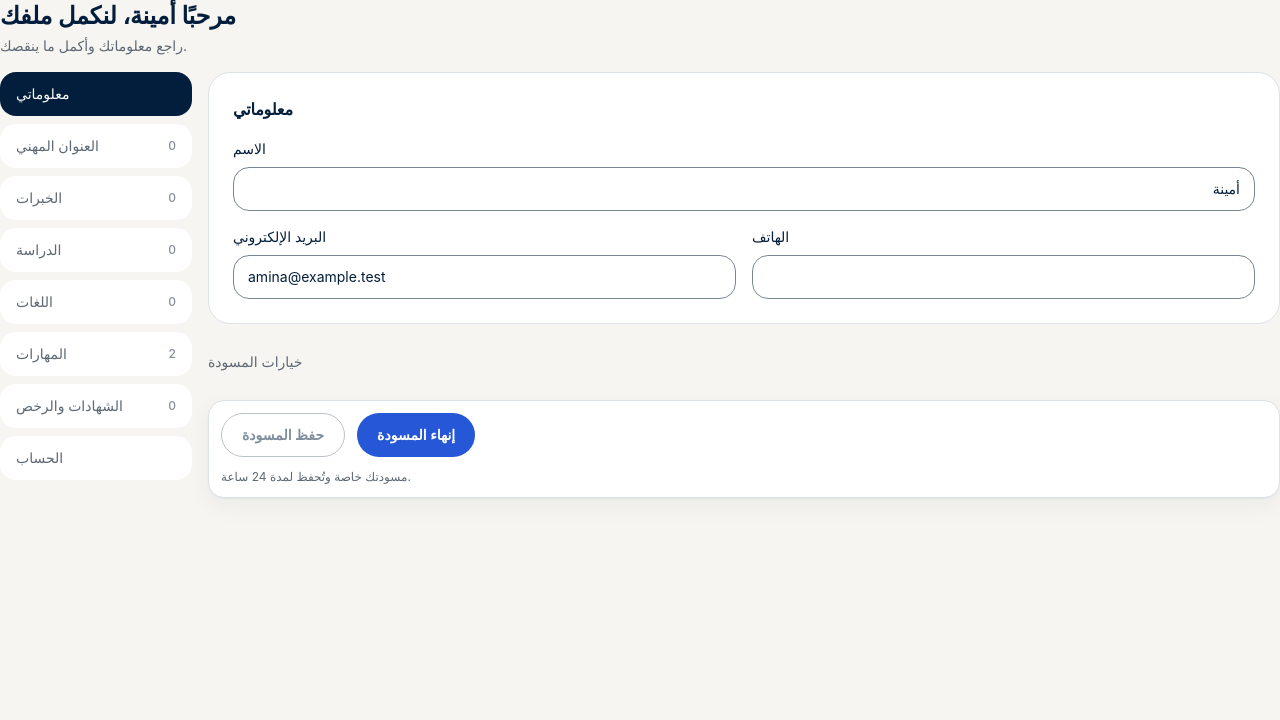
Test: guest professional draft › shows the dictionary label for extracted skills that only contain an ID
Expected: the field labelled "الاسم" is shown, [233,167,1255,211]
Click the button "المهارات 2" at (96, 354), box [0,332,192,376]
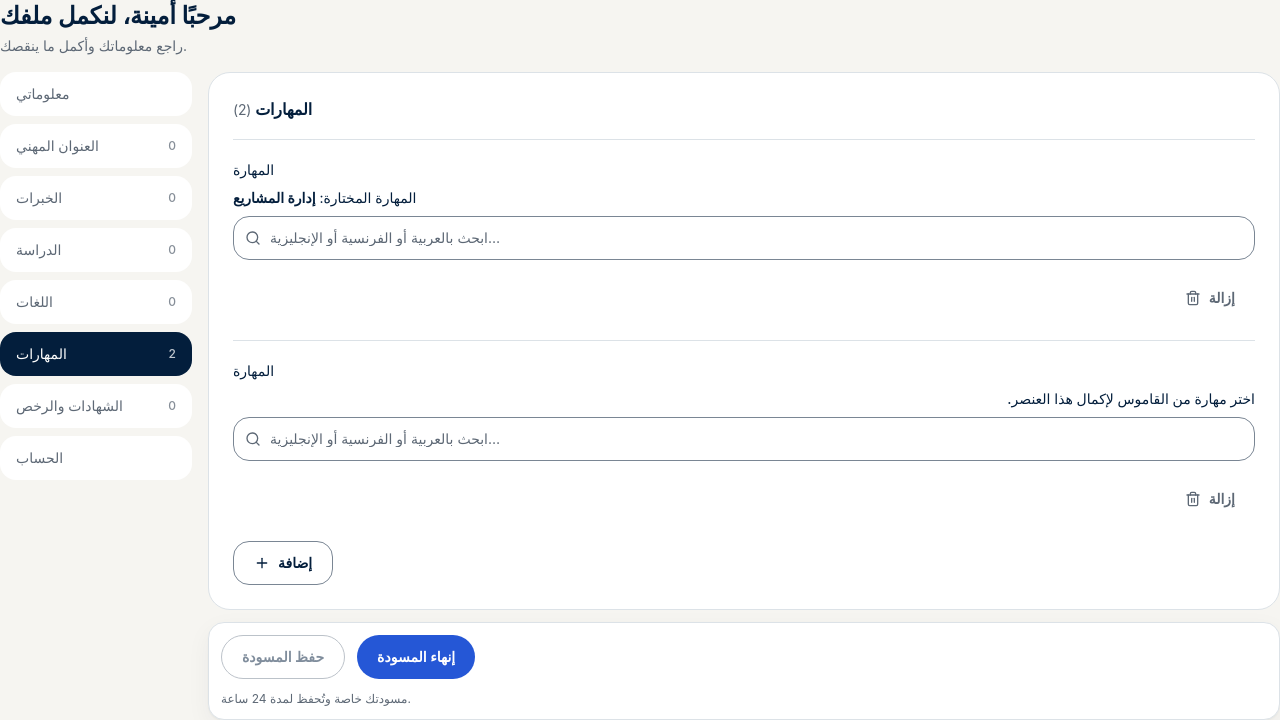
Expected: the text "إدارة المشاريع" is shown, [233,189,316,206]
Expected: the text "اختر مهارة من القاموس لإكمال هذا العنصر." is shown, [1007,390,1255,407]
